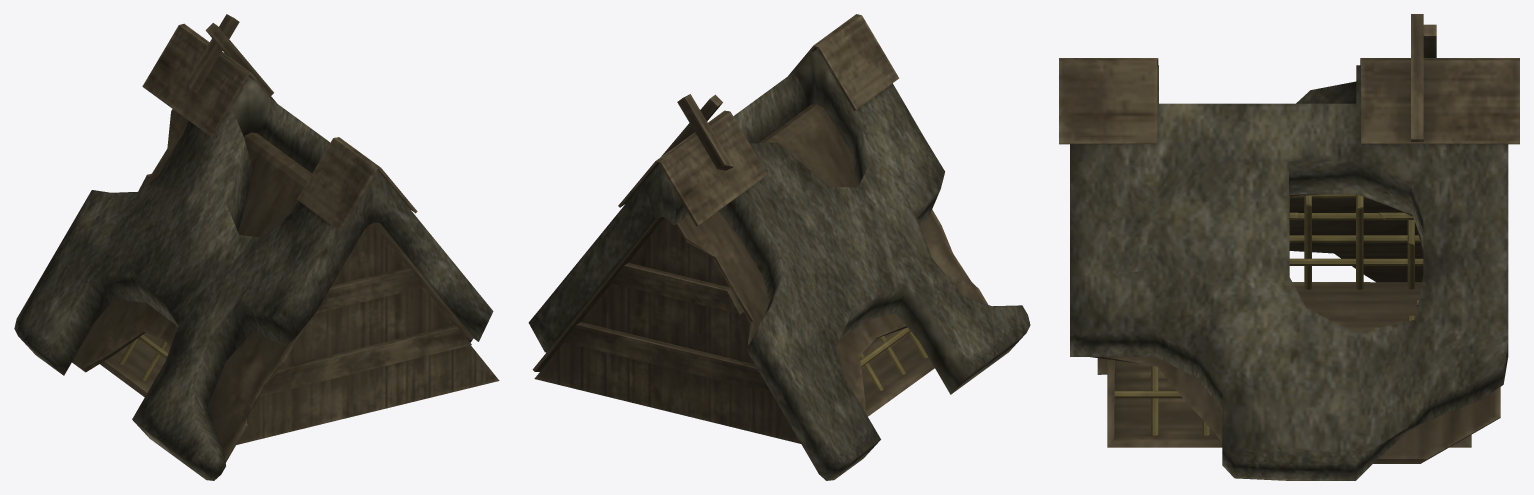
File: sb_obj_outdoor029_house02_roof_a_ruins.fbx
3 renders of one model, left to right at view 1: azimuth 30°, elevation 25°; view 2: azimuth 150°, elevation 25°; view 3: azimuth 270°, elevation 25°, orthographic. The views are drawn at different scales.
Parts seen in each view (by area): view 1: sb_obj_outdoor029_house02_roof_a_ruins; view 2: sb_obj_outdoor029_house02_roof_a_ruins; view 3: sb_obj_outdoor029_house02_roof_a_ruins.
Boxes of the visible parts, <box> form: sb_obj_outdoor029_house02_roof_a_ruins: <box>14,14,499,480</box>; sb_obj_outdoor029_house02_roof_a_ruins: <box>528,14,1030,480</box>; sb_obj_outdoor029_house02_roof_a_ruins: <box>1059,14,1519,480</box>.
Bounding box in the file's own units: 3.74 × 3.2 × 3.6.
